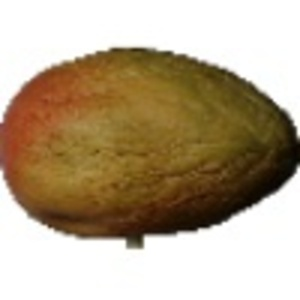mamão: (7, 42, 297, 240)
